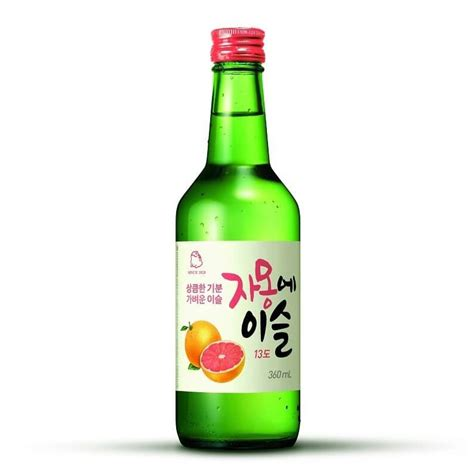alcohol: (171, 27, 304, 454)
